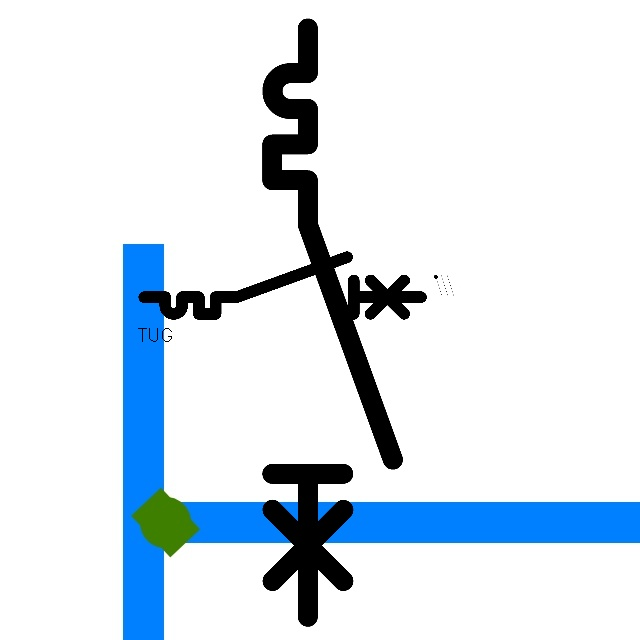interruptor_termomagnetico: (257, 13, 408, 632), (137, 250, 428, 321)
